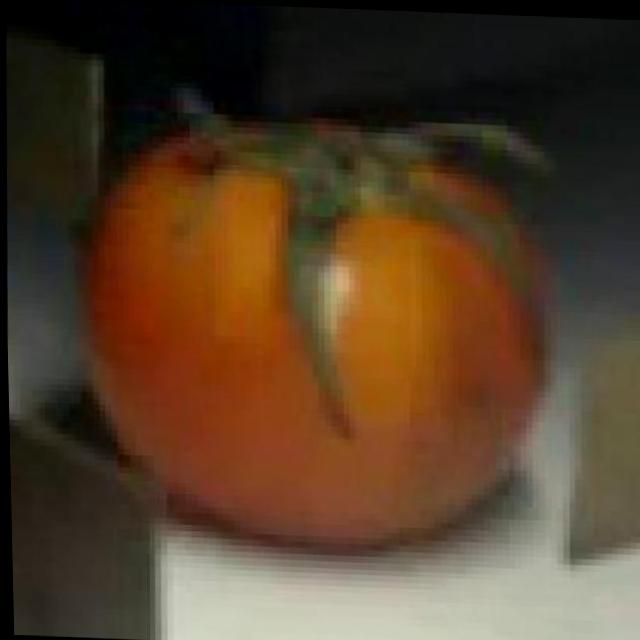tomato: (82, 119, 545, 556)
